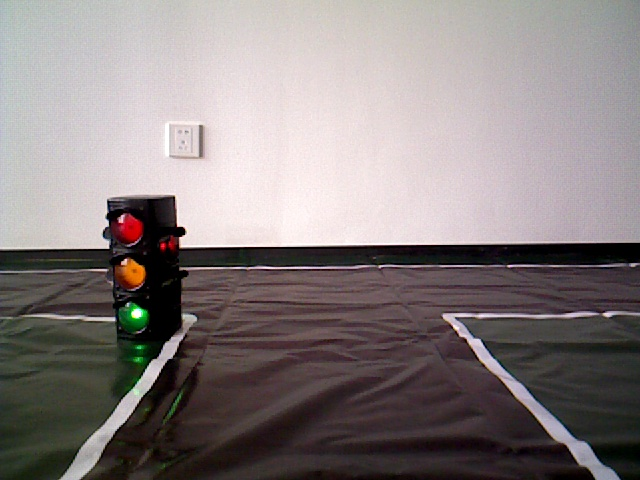green: (109, 200, 179, 327)
